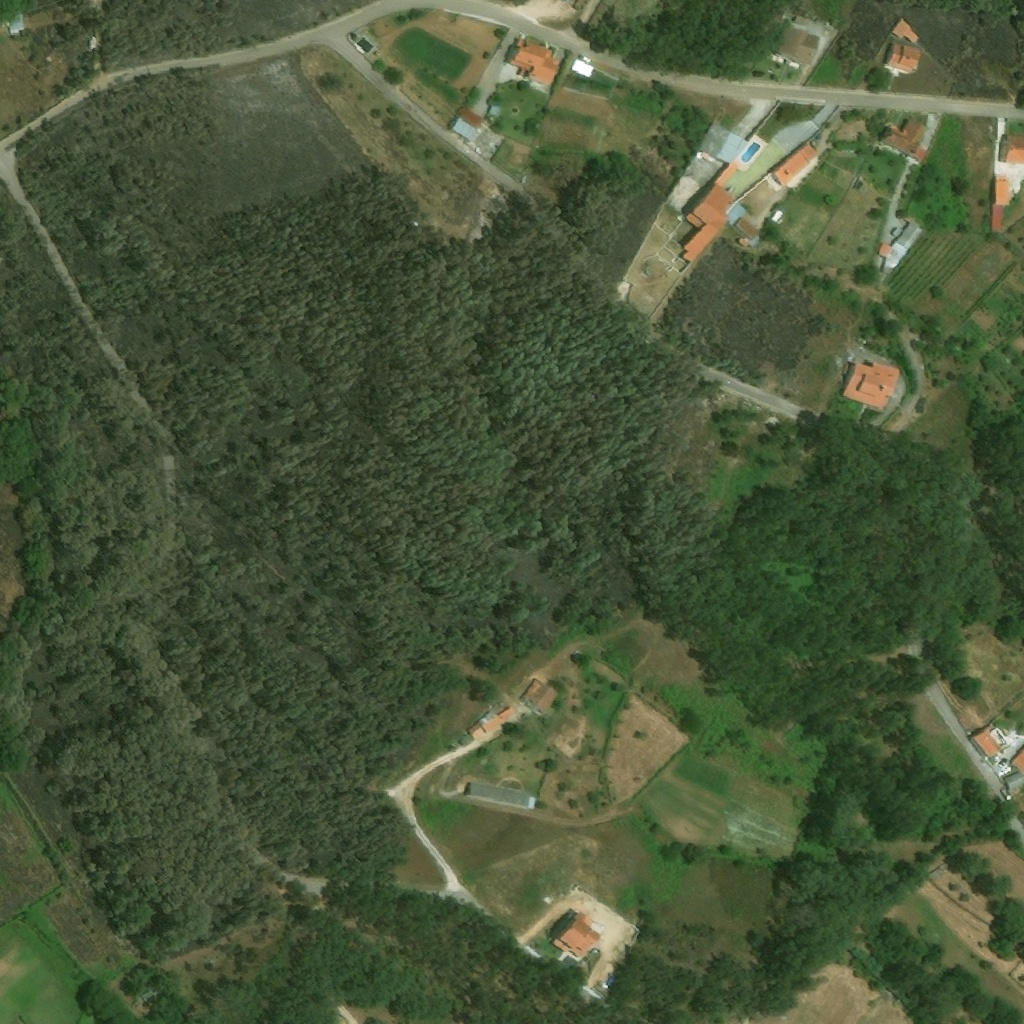0 no-damage: (678, 163, 756, 265), (504, 37, 561, 91), (838, 360, 899, 410), (548, 912, 603, 959), (767, 25, 823, 69), (877, 119, 929, 164), (769, 143, 818, 187), (461, 784, 535, 811), (699, 124, 745, 163), (466, 705, 515, 740), (444, 107, 483, 146), (520, 677, 558, 717), (969, 723, 1009, 759), (881, 44, 924, 75), (891, 221, 924, 256), (990, 174, 1009, 234), (876, 242, 904, 274), (889, 17, 919, 45), (1000, 134, 1023, 163), (4, 12, 24, 37), (569, 59, 589, 74), (794, 14, 812, 27), (486, 103, 499, 118), (734, 237, 747, 249), (85, 40, 95, 54), (372, 51, 378, 58)
3 destroyed: (546, 102, 601, 134)
4 un-classified: (1004, 744, 1023, 789), (80, 0, 100, 14)
